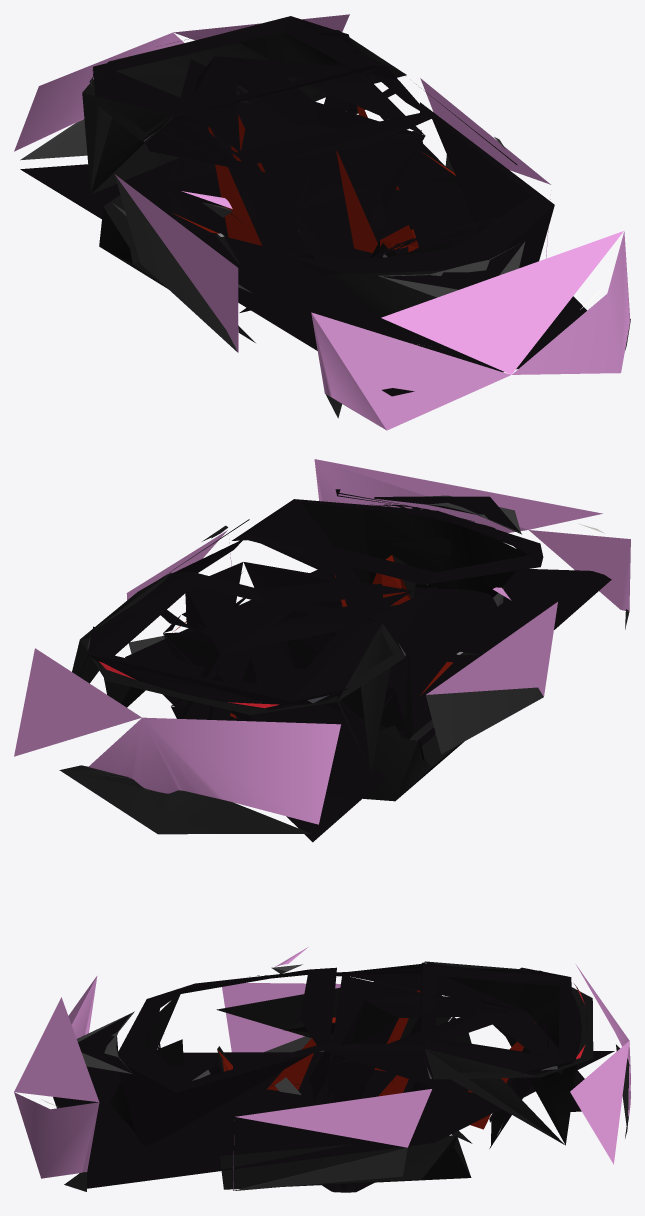
The model's file is concept_lo.glb.
3 views of the same model, one above another, from view 1: azimuth 30°, elevation 25°; view 2: azimuth 150°, elevation 25°; view 3: azimuth 270°, elevation 25° (orthographic). The views are drawn at different scales.
Visible parts, largest first — view 1: body; view 2: body; view 3: body.
Boxes of the visible parts, x1=… form: body: x1=14, y1=14, x2=630, y2=430; body: x1=14, y1=459, x2=630, y2=842; body: x1=14, y1=947, x2=630, y2=1191.
Size of the model in its own units: 2.27 by 1.56 by 4.37.
Materials: 18 (5 with a texture image).
